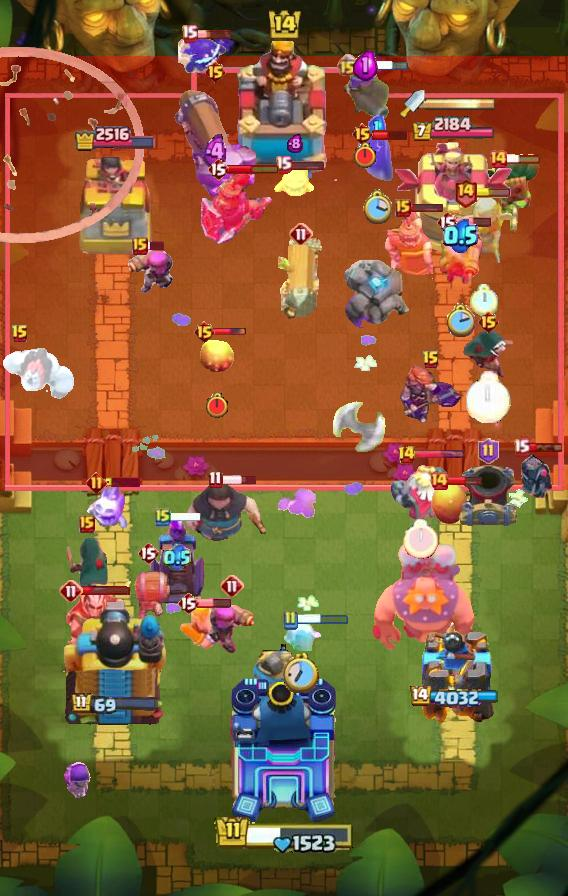axe: (331, 391, 387, 453)
bandit: (63, 538, 111, 596), (460, 331, 516, 379)
bar: (356, 59, 410, 72), (296, 613, 349, 626), (227, 163, 280, 175), (413, 449, 465, 460), (81, 585, 131, 596), (372, 128, 409, 141), (221, 474, 258, 486), (196, 28, 233, 40), (196, 597, 232, 609), (456, 216, 492, 228), (289, 159, 325, 171), (506, 153, 542, 165), (447, 475, 483, 486), (528, 442, 563, 453), (409, 202, 444, 213), (104, 477, 140, 487), (475, 188, 511, 198), (213, 327, 247, 337), (169, 512, 202, 522), (146, 240, 166, 251)
bar-level: (453, 177, 478, 208), (59, 579, 83, 603), (220, 574, 244, 598), (289, 222, 313, 246), (193, 320, 216, 344), (477, 310, 500, 334), (351, 122, 374, 146), (204, 60, 227, 84), (478, 438, 499, 464), (336, 54, 359, 77), (177, 591, 199, 615), (137, 541, 159, 565), (436, 210, 458, 234), (207, 157, 229, 181), (86, 472, 107, 493), (429, 471, 449, 491), (488, 149, 508, 169), (397, 445, 416, 465), (422, 350, 440, 370), (11, 324, 29, 344), (513, 438, 530, 457), (275, 155, 292, 174), (181, 24, 198, 43), (282, 610, 298, 630), (155, 507, 171, 527), (79, 515, 95, 533), (132, 237, 148, 255), (395, 199, 411, 217), (208, 470, 223, 489)
barbarian: (177, 605, 225, 649)
cannoneer-tower: (58, 595, 170, 731)
clock: (466, 371, 511, 423), (283, 653, 319, 693), (403, 519, 438, 559), (362, 189, 392, 226), (445, 303, 475, 337), (470, 284, 498, 316), (205, 392, 229, 419), (353, 142, 377, 169)
dagger-duchess-tower: (394, 142, 513, 256)
dagger-duchess-tower-bar: (425, 97, 495, 111)
dart-goblin: (483, 156, 543, 232)
electro-spirit: (178, 33, 228, 75), (357, 133, 397, 181)
elixir: (443, 218, 478, 253), (202, 134, 229, 170), (353, 49, 378, 81), (163, 544, 191, 572), (368, 115, 386, 139), (287, 134, 303, 153)
firecracker: (437, 227, 483, 289), (207, 602, 257, 656), (126, 243, 176, 295)
golemite: (341, 260, 411, 328)
ice-spirit: (273, 162, 317, 200), (279, 619, 323, 651)
ice-spirit-evolution: (87, 481, 129, 531)
king-tower: (228, 676, 340, 826), (228, 41, 340, 181)
king-tower-bar: (214, 812, 354, 853)
knight: (245, 644, 296, 707)
mini-pekka: (518, 448, 554, 502)
mortar: (457, 462, 519, 530)
musketeer: (341, 62, 389, 124)
phoenix-egg: (431, 478, 469, 526), (200, 336, 234, 374)
queen-tower: (411, 619, 495, 731), (71, 154, 157, 256)
royal-ghost: (389, 460, 451, 520)
royal-recruit: (385, 209, 439, 279)
skeleton-evolution: (63, 762, 92, 800)
tower-bar: (73, 124, 156, 152), (411, 116, 496, 143), (70, 692, 159, 716), (408, 686, 498, 709)
valkyrie-evolution: (399, 362, 463, 426)
wall-breaker: (123, 568, 173, 624)
